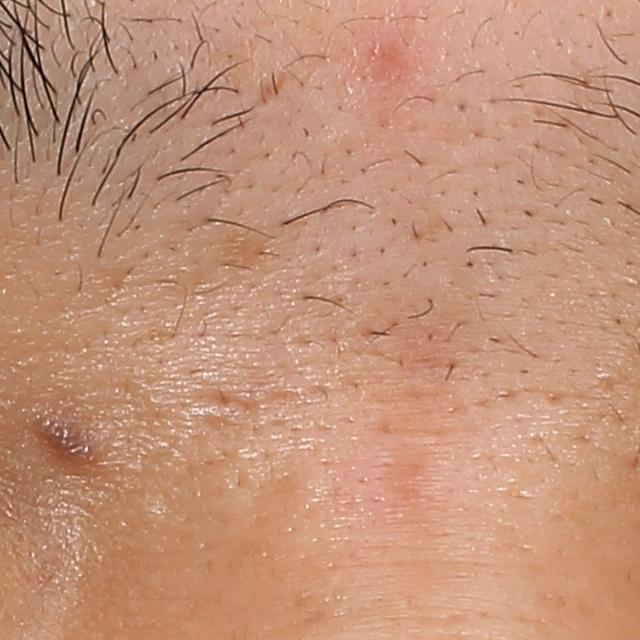atrophic_scar: (254, 74, 287, 106)
